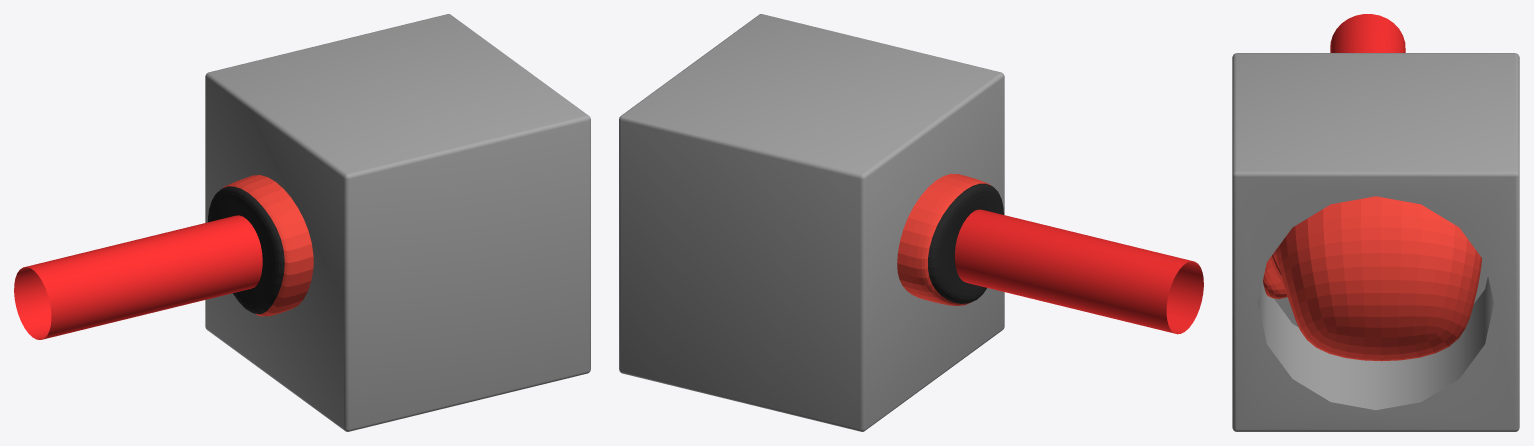
Rendered from Boxing.fbx.
The picture shows the model from 3 angles, left to right: view 1: azimuth 30°, elevation 25°; view 2: azimuth 150°, elevation 25°; view 3: azimuth 270°, elevation 25°; orthographic projection.
Visible parts, largest first — view 1: Cube, Cylinder, Boxing_Glove_002; view 2: Cube, Cylinder, Boxing_Glove_002; view 3: Cube, Boxing_Glove_002, Cylinder.
Boxes of the visible parts, x1,y1,x2,y2 form: Cube: (205, 14, 590, 431); Cylinder: (14, 215, 262, 339); Boxing_Glove_002: (208, 175, 313, 316); Cube: (619, 14, 1004, 431); Cylinder: (955, 209, 1203, 334); Boxing_Glove_002: (897, 173, 1003, 305); Cube: (1232, 53, 1519, 431); Boxing_Glove_002: (1263, 196, 1481, 361); Cylinder: (1330, 14, 1405, 52).
Bounding box in the file's own units: 400 × 200 × 200.
Materials: 3 (1 with a texture image).
